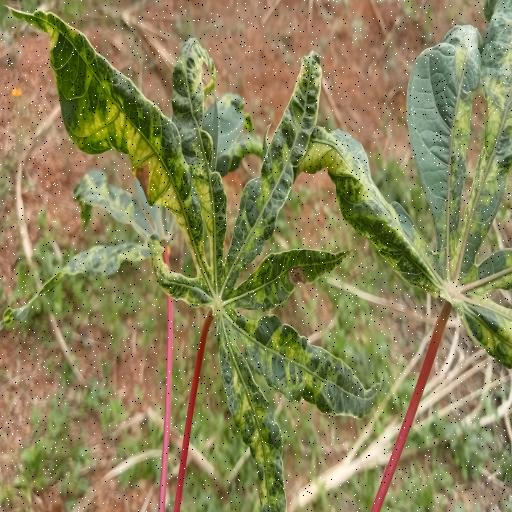Cassava_Mosaic: (4, 0, 385, 512), (310, 0, 512, 372)
